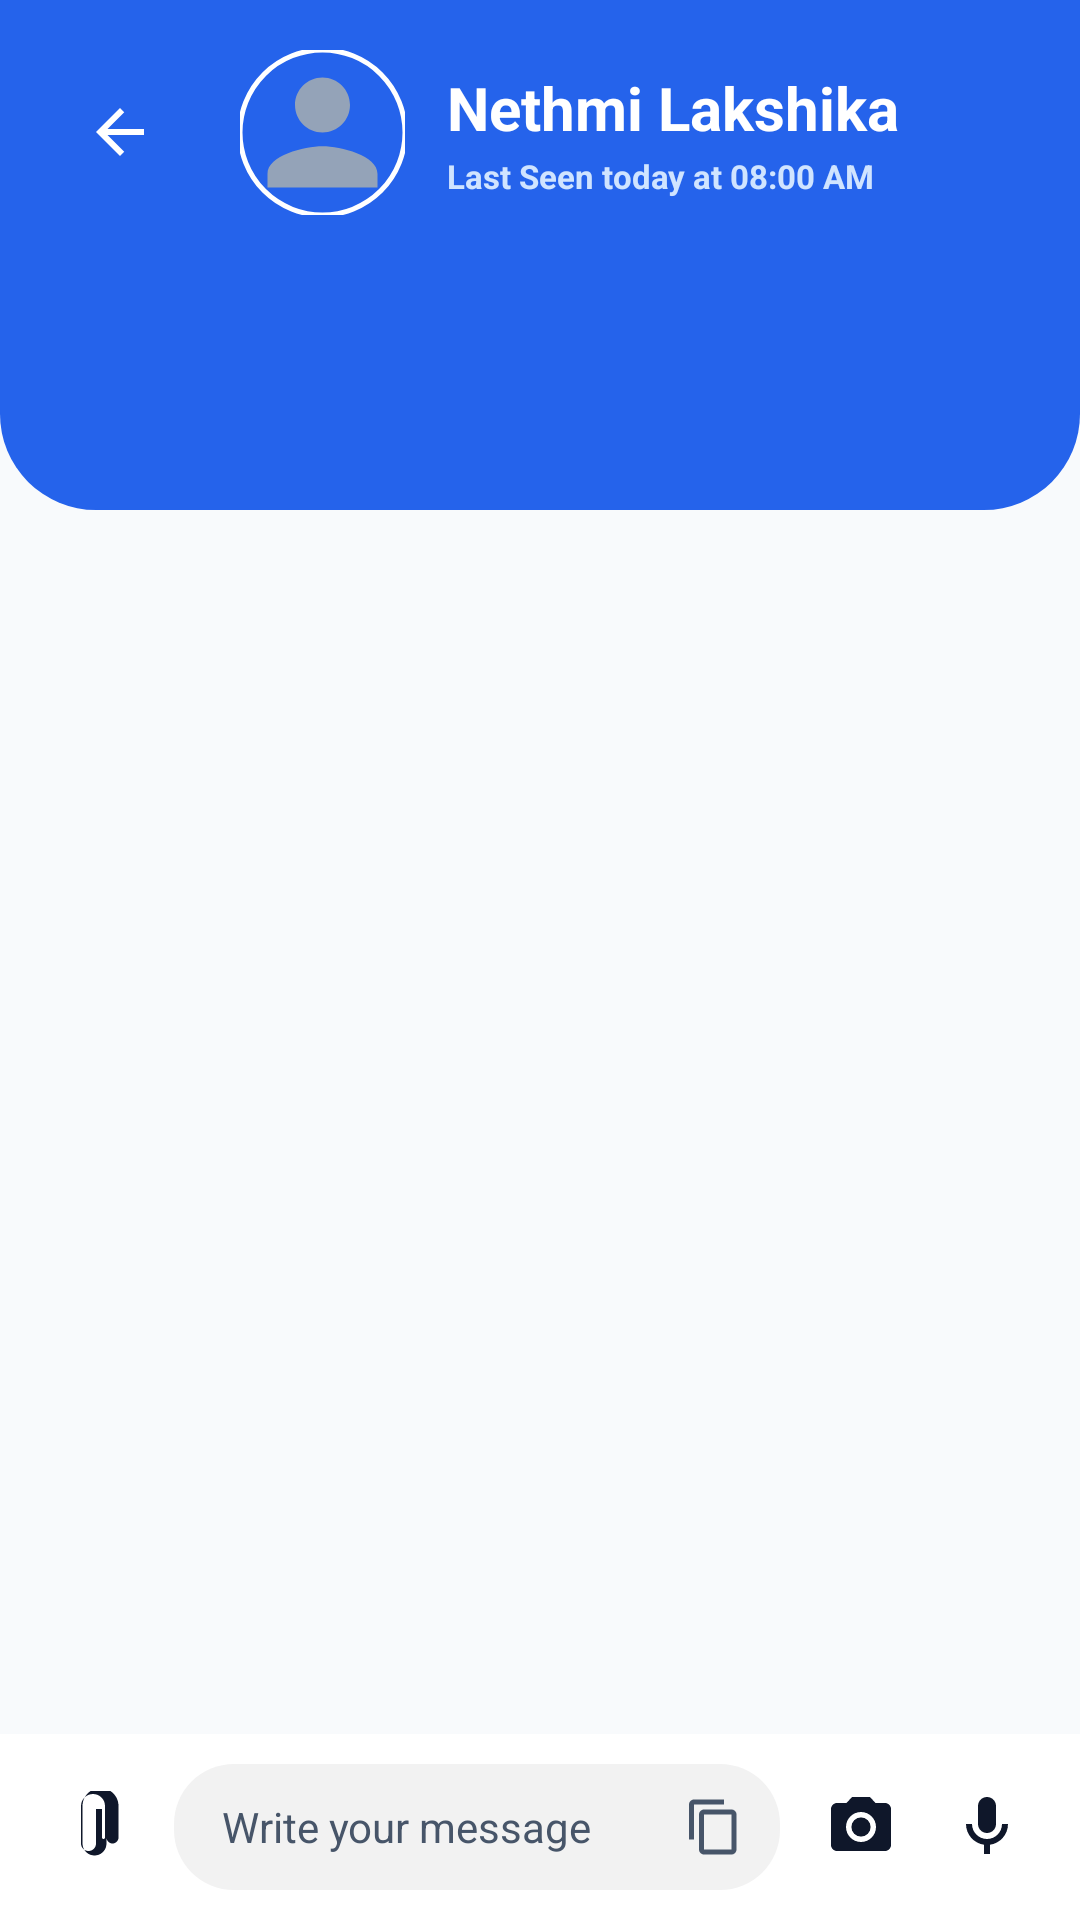

Where to tap for icons on this 1080×1920 app screen, as (x,y):
Attach File: (100,1823)
Back: (120,132)
Camera: (861,1824)
Copy Text: (713,1827)
person: (322,132)
